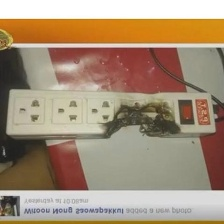three_eye_plug: (1, 86, 219, 142)
